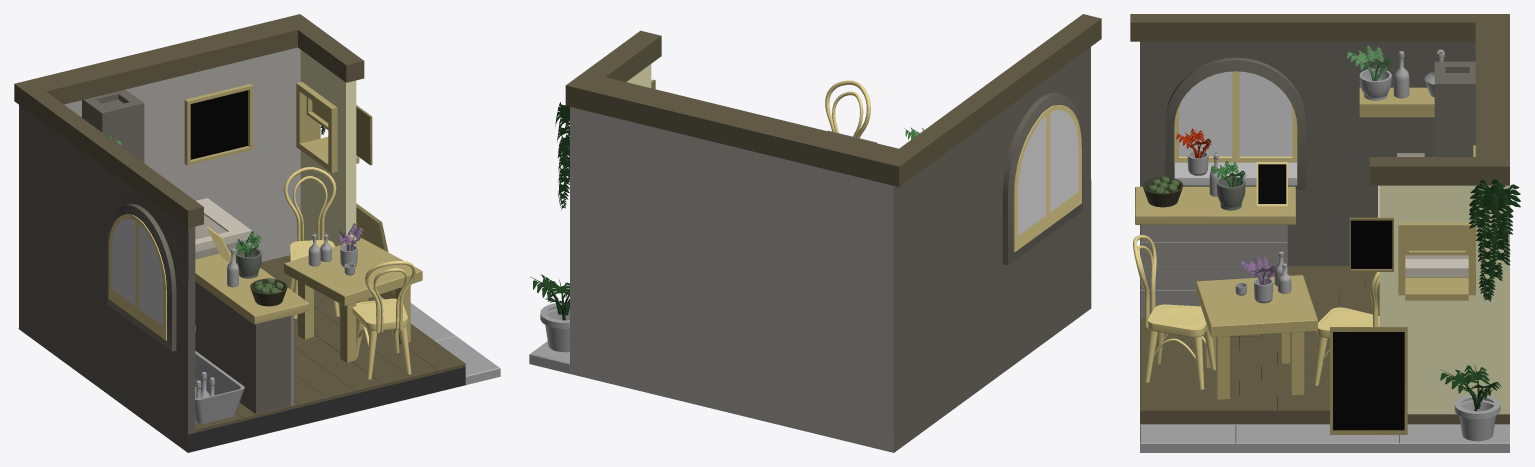
The model's file is Layed Out.fbx.
The picture shows the model from 3 angles, left to right: view 1: azimuth 30°, elevation 25°; view 2: azimuth 150°, elevation 25°; view 3: azimuth 270°, elevation 25°; orthographic projection. The views are drawn at different scales.
Parts seen in each view (by area): view 1: Walls, OvenWallTop, CounterBase, pCube1 (×6), KitchenWallTop, WindowDoors, SpiceRack, TableTop, CounterTop, OvenExhaust, WindowFrame, StreetWallTop (+18 smaller); view 2: Walls, OvenWallTop, KitchenWallTop, WindowDoors, WindowFrame, StreetWallTop, PlantPot, pCube16, OuterBack; view 3: Walls, KitchenWallTop, WindowDoors, SignBig, pCube1 (×5), pCube2 (×7), TableTop, OvenWallTop, CounterTop, StreetWallTop, OvenExhaust, pCube17 (+29 smaller).
Part boxes in pixels (bbox=[...]): Walls: bbox=[18, 47, 465, 452]; OvenWallTop: bbox=[30, 18, 297, 104]; CounterBase: bbox=[195, 282, 290, 414]; pCube1 (×6): bbox=[293, 323, 465, 407]; KitchenWallTop: bbox=[14, 80, 203, 228]; WindowDoors: bbox=[108, 214, 166, 340]; SpiceRack: bbox=[184, 83, 253, 165]; TableTop: bbox=[284, 238, 422, 305]; CounterTop: bbox=[195, 249, 309, 324]; OvenExhaust: bbox=[82, 89, 144, 162]; WindowFrame: bbox=[107, 204, 176, 351]; StreetWallTop: bbox=[282, 14, 364, 82]; Walls: bbox=[570, 47, 1091, 452]; OvenWallTop: bbox=[586, 77, 898, 182]; KitchenWallTop: bbox=[880, 14, 1101, 186]; WindowDoors: bbox=[1013, 105, 1081, 252]; WindowFrame: bbox=[1002, 93, 1082, 265]; StreetWallTop: bbox=[565, 30, 661, 110]; PlantPot: bbox=[540, 302, 569, 352]; pCube16: bbox=[529, 341, 569, 373]; OuterBack: bbox=[825, 80, 870, 138]; Walls: bbox=[1140, 41, 1509, 425]; KitchenWallTop: bbox=[1130, 14, 1509, 41]; WindowDoors: bbox=[1174, 71, 1297, 162]; SignBig: bbox=[1330, 327, 1407, 434]; pCube1 (×5): bbox=[1140, 336, 1277, 414]; pCube2 (×7): bbox=[1239, 266, 1376, 414]; TableTop: bbox=[1196, 275, 1317, 337]; OvenWallTop: bbox=[1475, 22, 1509, 156]; CounterTop: bbox=[1135, 186, 1295, 224]; StreetWallTop: bbox=[1369, 157, 1509, 185]; OvenExhaust: bbox=[1434, 61, 1475, 156]; pCube17: bbox=[1235, 425, 1398, 452].
Size of the model in its own units: 9.41 by 7.02 by 8.85.
